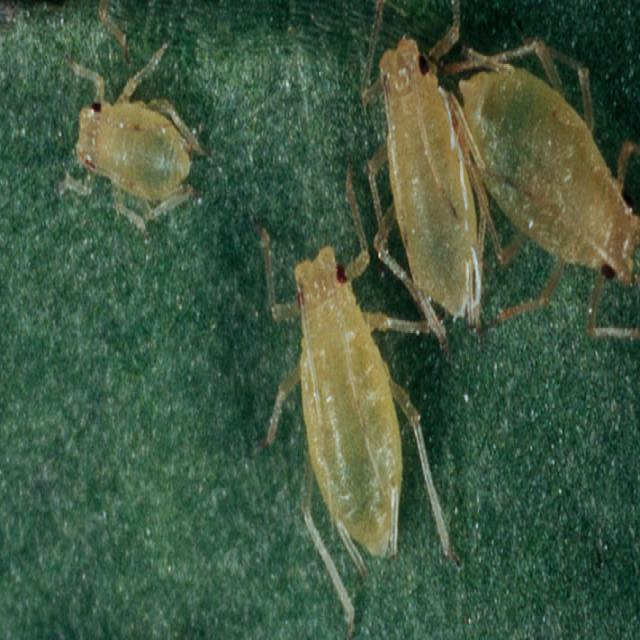Aphids: (243, 177, 422, 610), (357, 11, 499, 340), (43, 33, 207, 248)
